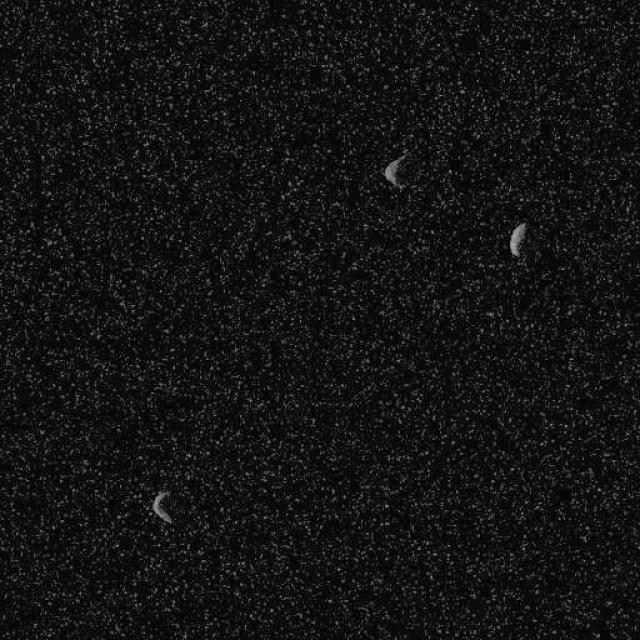D2: (382, 152, 408, 188), (151, 488, 174, 524), (508, 220, 528, 258)
